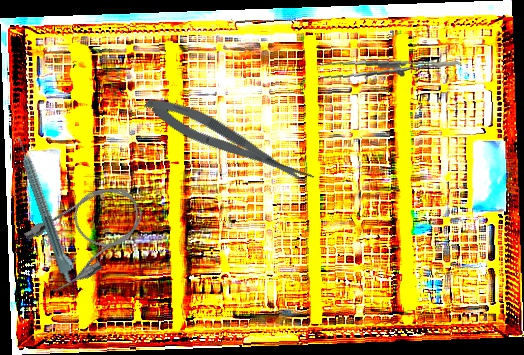Cannula: (17, 172, 157, 299)
Handpiece: (13, 134, 81, 284)
Micro Scissor: (139, 86, 319, 199)
Tissue Forceps: (317, 49, 461, 90)
